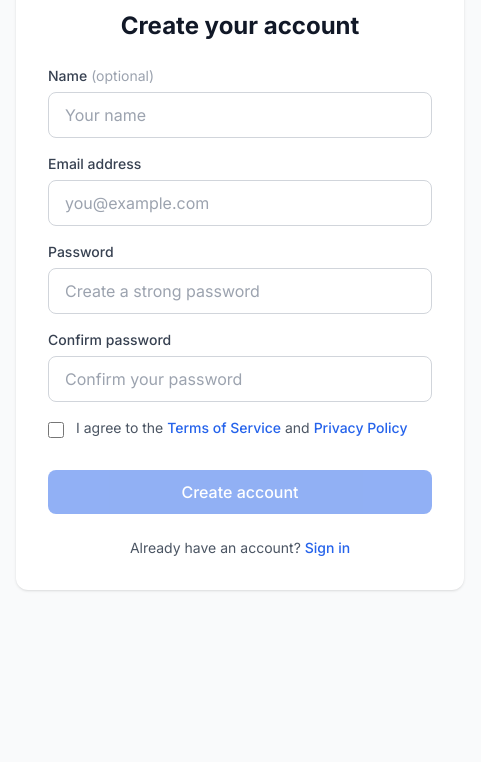
Scenario: SignupForm › shows password strength indicator when password is typed
Type "weak" into the password field labelled "Password" at x=240, y=291, box [48,268,432,314]
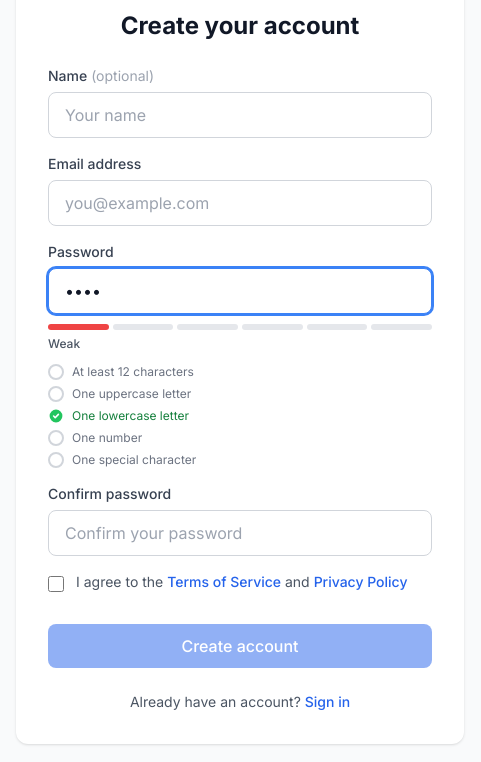
Now the text "Weak" is shown, box [48,336,80,351]
